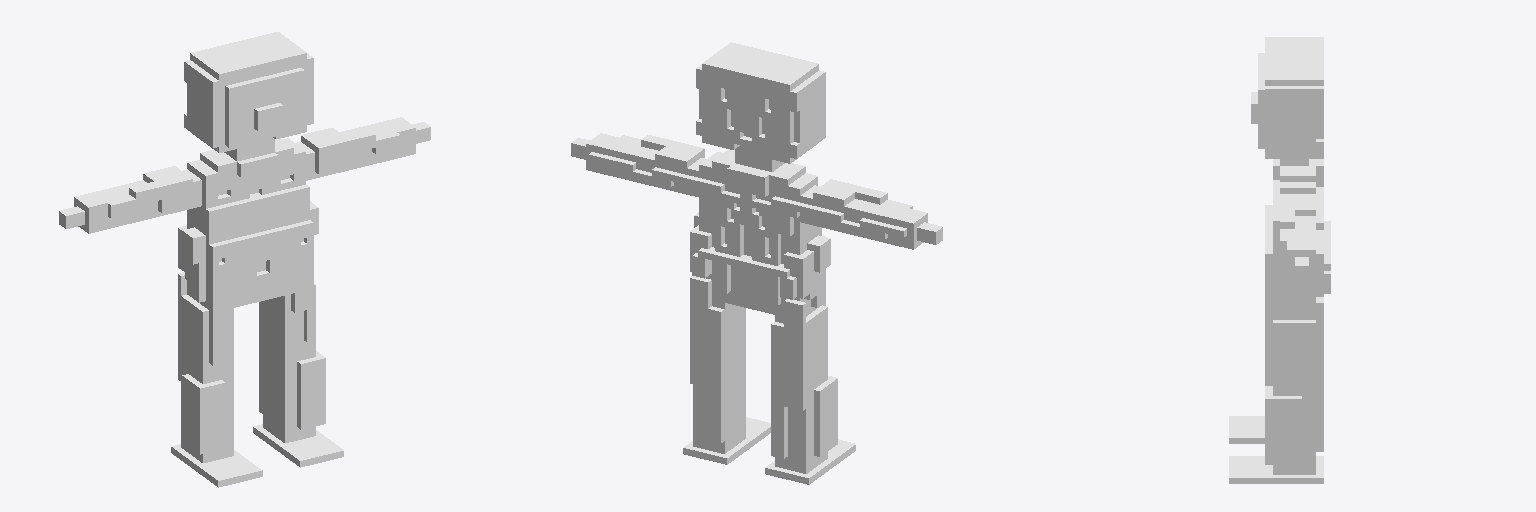
Rendered from CONCEPT_APRIX04_SLOTH02.obj.
3 renders of one model, left to right at view 1: azimuth 30°, elevation 25°; view 2: azimuth 150°, elevation 25°; view 3: azimuth 270°, elevation 25°, orthographic.
Bounding box in the file's own units: 58 × 60 × 14.